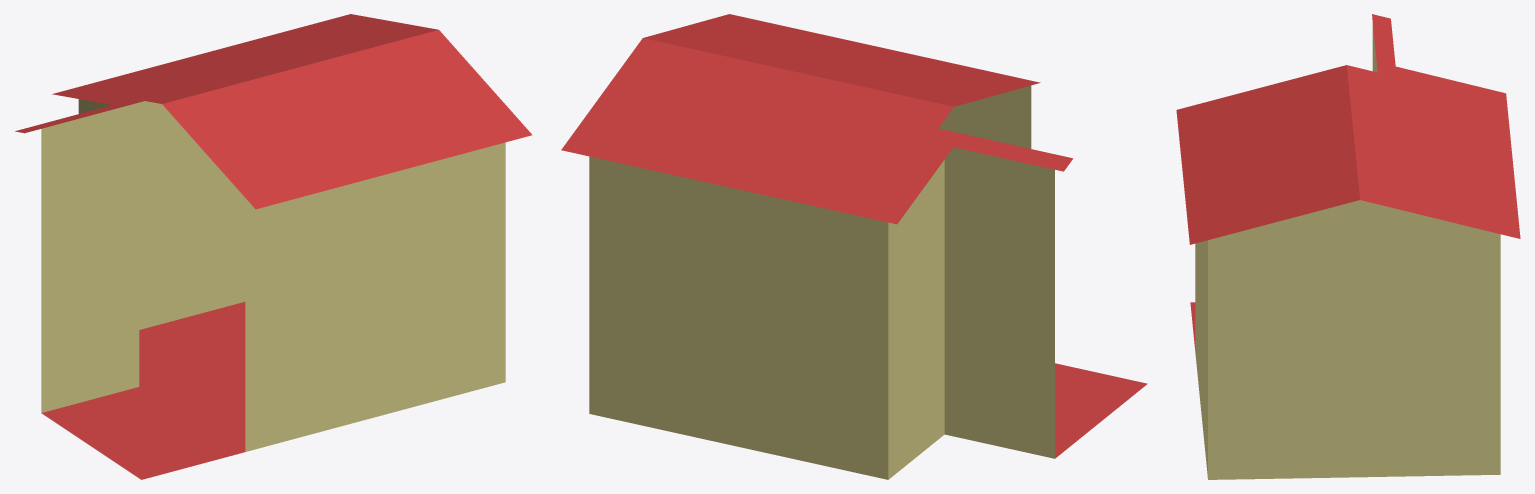
The picture shows the model from 3 angles, left to right: view 1: azimuth 30°, elevation 25°; view 2: azimuth 150°, elevation 25°; view 3: azimuth 270°, elevation 25°; orthographic projection. The views are drawn at different scales.
Bounding box in the file's own units: 12.31 × 9.06 × 8.29.
